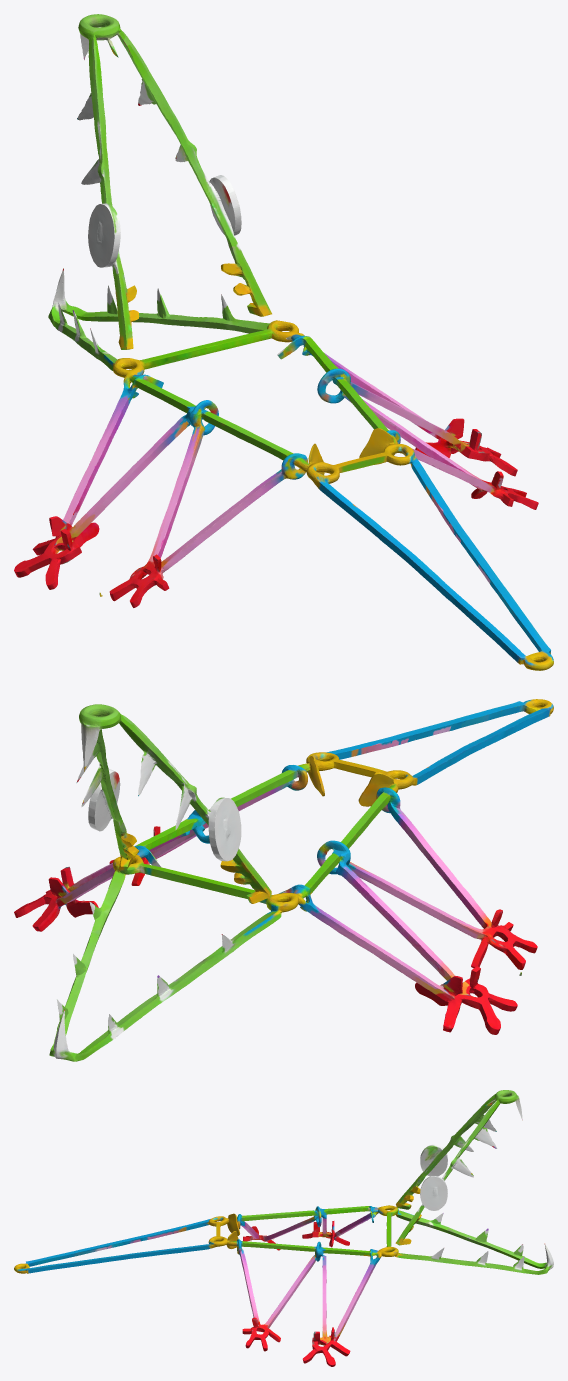
Rendered from stemicrocodile.glb.
3 renders of one model, top to bottom at view 1: azimuth 30°, elevation 25°; view 2: azimuth 150°, elevation 25°; view 3: azimuth 270°, elevation 25°, orthographic. The views are drawn at different scales.
Parts seen in each view (by area): view 1: tripo_node_c8606715-f4ba-42d1-b346-6fa8d8b915b5; view 2: tripo_node_c8606715-f4ba-42d1-b346-6fa8d8b915b5; view 3: tripo_node_c8606715-f4ba-42d1-b346-6fa8d8b915b5.
Part boxes in pixels (x1,y1,x2,y2): tripo_node_c8606715-f4ba-42d1-b346-6fa8d8b915b5: (14,14,553,670); tripo_node_c8606715-f4ba-42d1-b346-6fa8d8b915b5: (14,699,553,1061); tripo_node_c8606715-f4ba-42d1-b346-6fa8d8b915b5: (14,1090,553,1366).
Bounding box in the file's own units: 0.5706 × 0.4284 × 1.
Materials: 1 (1 with a texture image).
